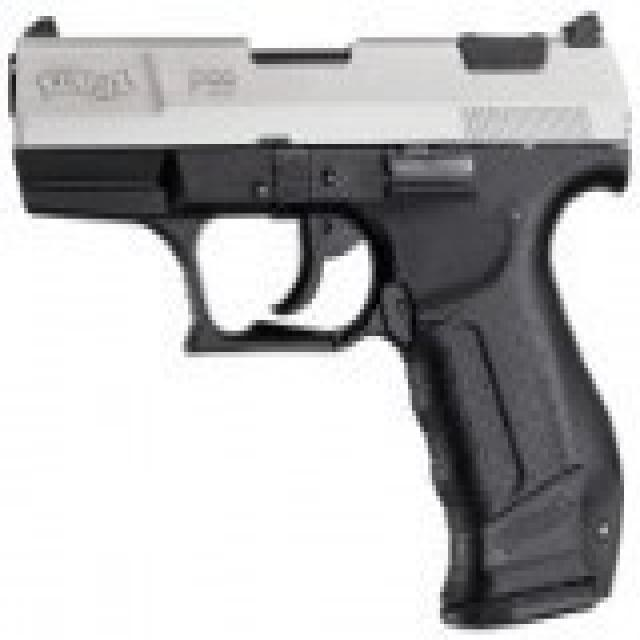Gun: (11, 12, 618, 589)
